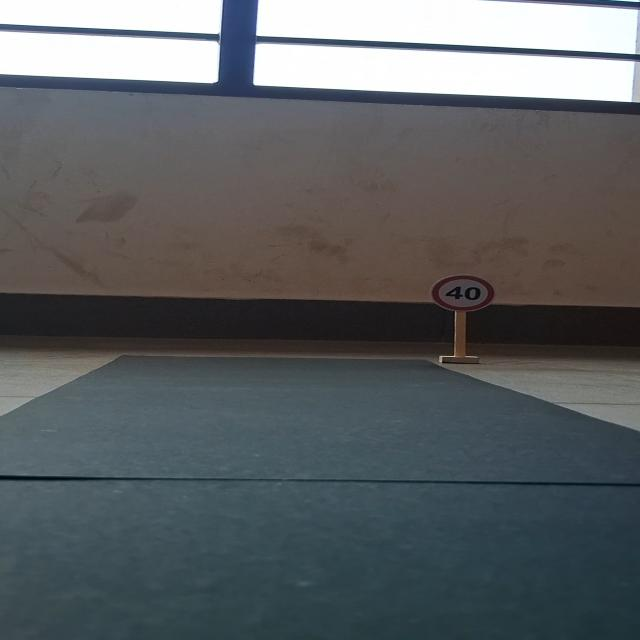Speed40: (425, 270, 500, 314)
